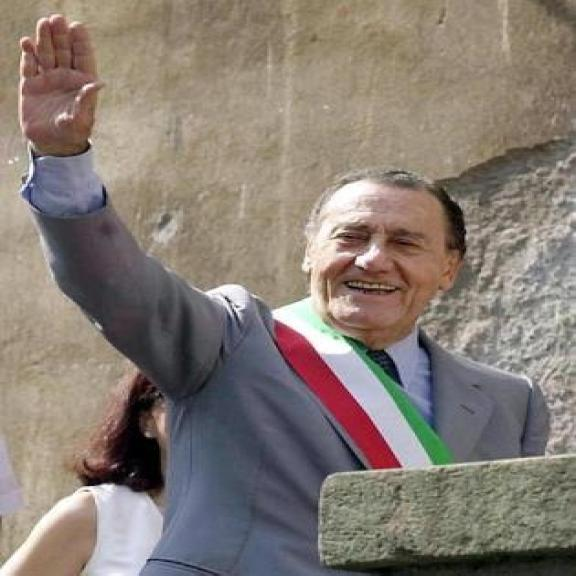face: (294, 195, 471, 336)
